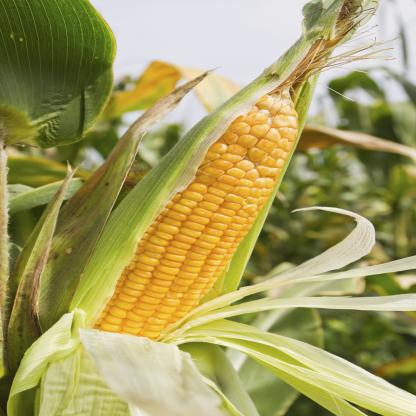---: (69, 78, 320, 346)
